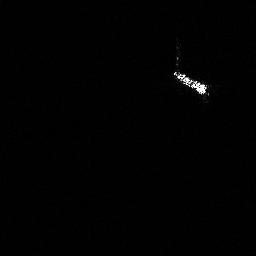ship: (171, 67, 211, 97)
